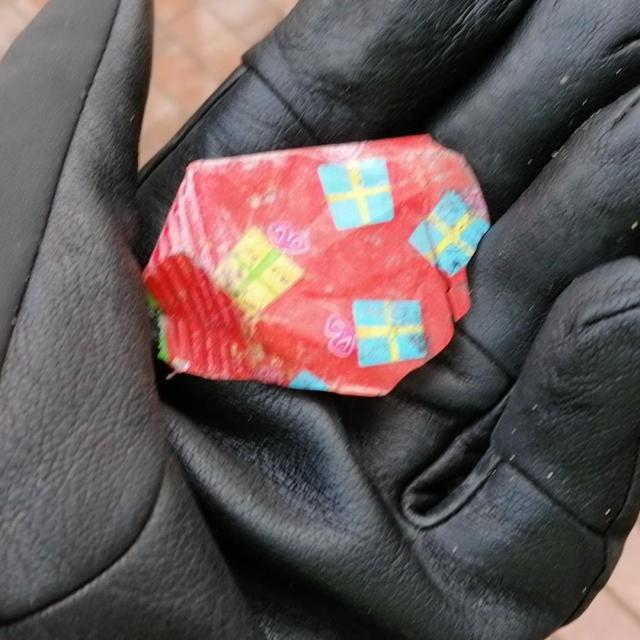Plastic: (137, 131, 494, 399)
